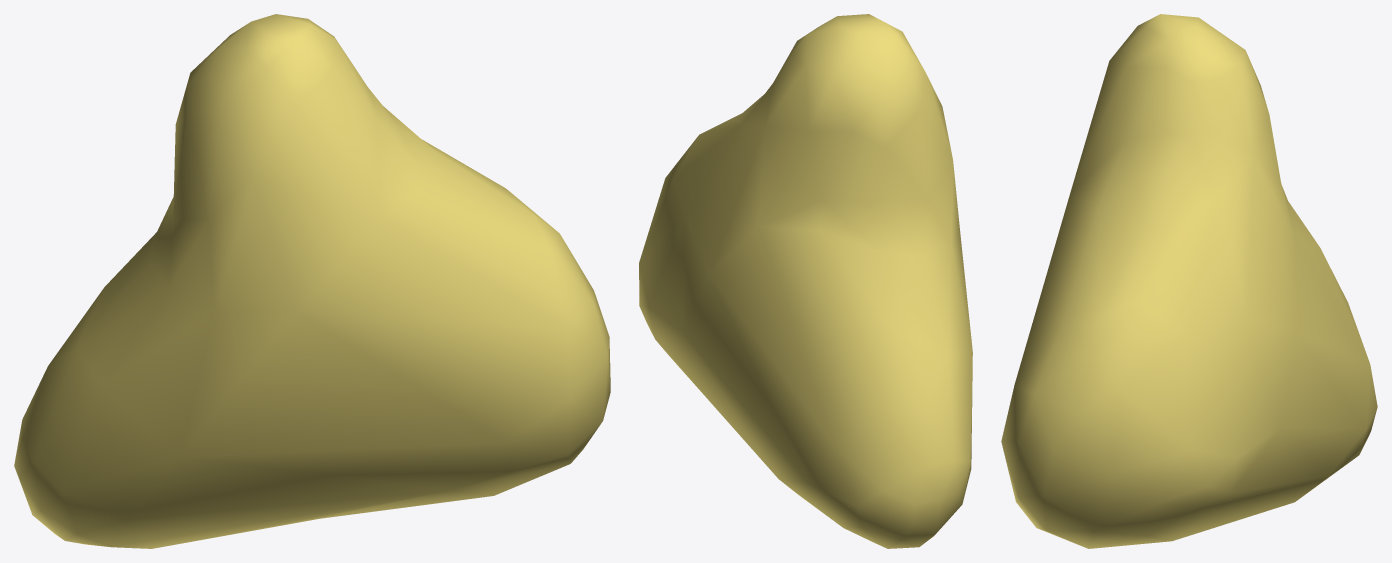
The model's file is ampulla-of-lacrimal-canaliculus-r.glb.
The picture shows the model from 3 angles, left to right: view 1: azimuth 30°, elevation 25°; view 2: azimuth 150°, elevation 25°; view 3: azimuth 270°, elevation 25°; orthographic projection. The views are drawn at different scales.
Parts seen in each view (by area): view 1: Ampulla of lacrimal canaliculus.r; view 2: Ampulla of lacrimal canaliculus.r; view 3: Ampulla of lacrimal canaliculus.r.
Boxes of the visible parts, x1,y1,x2,y2 form: Ampulla of lacrimal canaliculus.r: [14, 14, 610, 548]; Ampulla of lacrimal canaliculus.r: [639, 14, 972, 548]; Ampulla of lacrimal canaliculus.r: [1001, 14, 1377, 548].
Size of the model in its own units: 0.00303 by 0.00339 by 0.0023.
